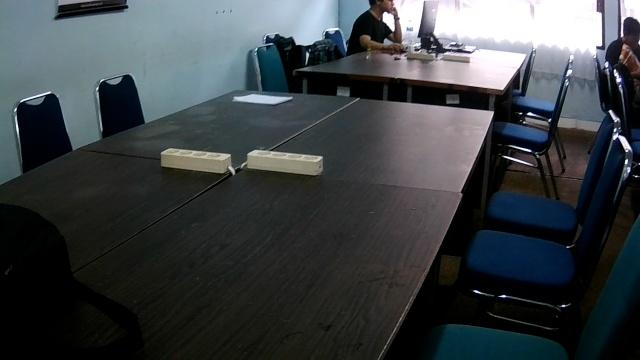Kursi: (453, 134, 632, 331), (484, 107, 622, 247), (488, 67, 574, 199)
Meja: (0, 168, 465, 359), (243, 97, 495, 194), (75, 87, 359, 171), (292, 48, 527, 106)
